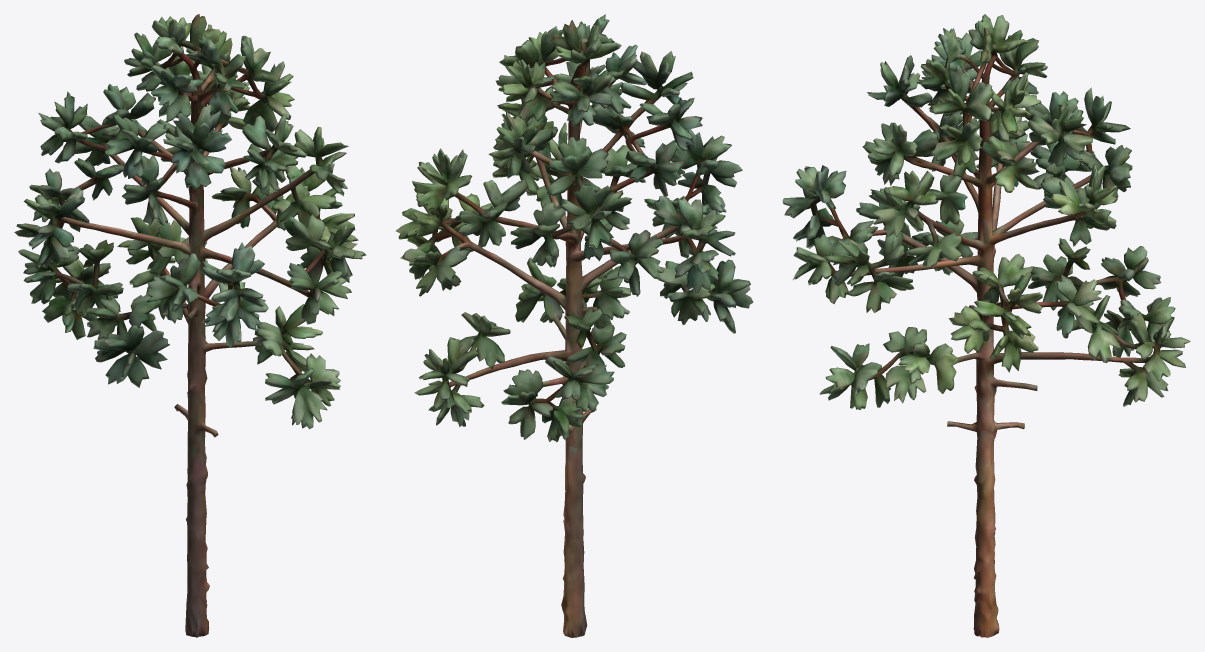
File: tree_pine.glb
3 views of the same model, side by side, from view 1: azimuth 30°, elevation 25°; view 2: azimuth 150°, elevation 25°; view 3: azimuth 270°, elevation 25° (orthographic).
Visible parts, largest first — view 1: tripo_node_b46bdad4-d2f4-4fd9-b62b-1520554651cf; view 2: tripo_node_b46bdad4-d2f4-4fd9-b62b-1520554651cf; view 3: tripo_node_b46bdad4-d2f4-4fd9-b62b-1520554651cf.
Boxes of the visible parts, x1=… form: tripo_node_b46bdad4-d2f4-4fd9-b62b-1520554651cf: x1=14, y1=14, x2=366, y2=637; tripo_node_b46bdad4-d2f4-4fd9-b62b-1520554651cf: x1=396, y1=14, x2=753, y2=637; tripo_node_b46bdad4-d2f4-4fd9-b62b-1520554651cf: x1=782, y1=14, x2=1190, y2=637.
Bounding box in the file's own units: 0.5526 × 1 × 0.6082.
Materials: 1 (1 with a texture image).
